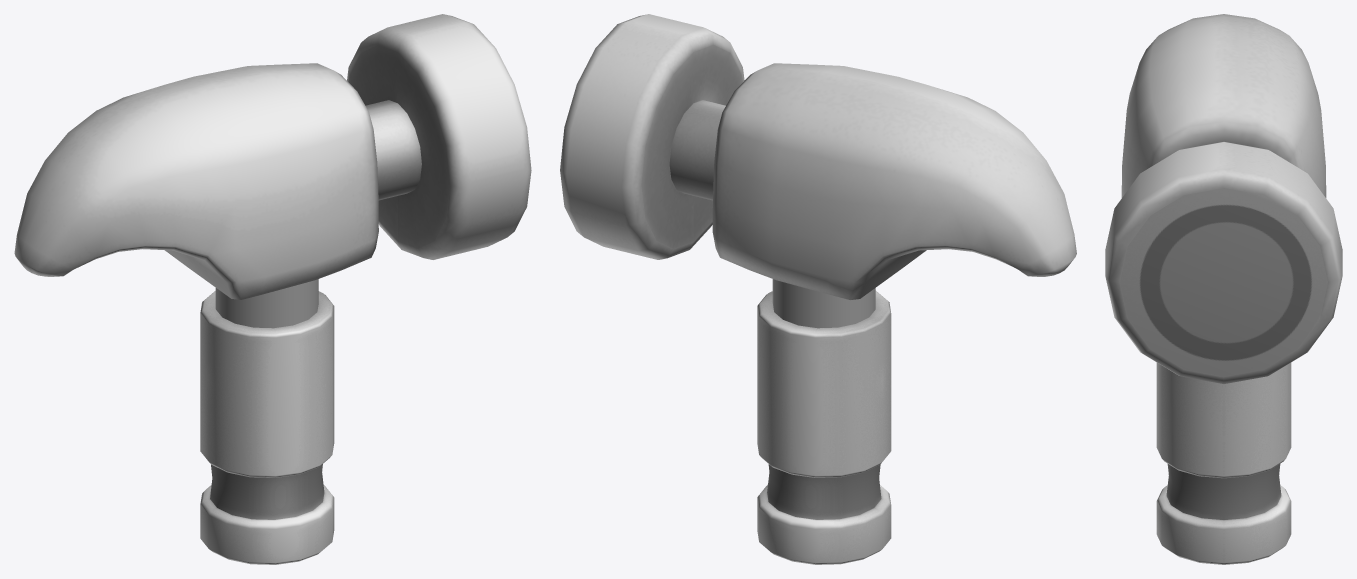
The model's file is Hammer_Barrier.fbx.
3 views of the same model, side by side, from view 1: azimuth 30°, elevation 25°; view 2: azimuth 150°, elevation 25°; view 3: azimuth 270°, elevation 25° (orthographic).
Visible parts, largest first — view 1: Hammer_Barrier; view 2: Hammer_Barrier; view 3: Hammer_Barrier.
Boxes of the visible parts, x1,y1,x2,y2 form: Hammer_Barrier: [14, 14, 531, 564]; Hammer_Barrier: [560, 14, 1076, 564]; Hammer_Barrier: [1105, 14, 1342, 564].
Size of the model in its own units: 137 by 134 by 61.66.
